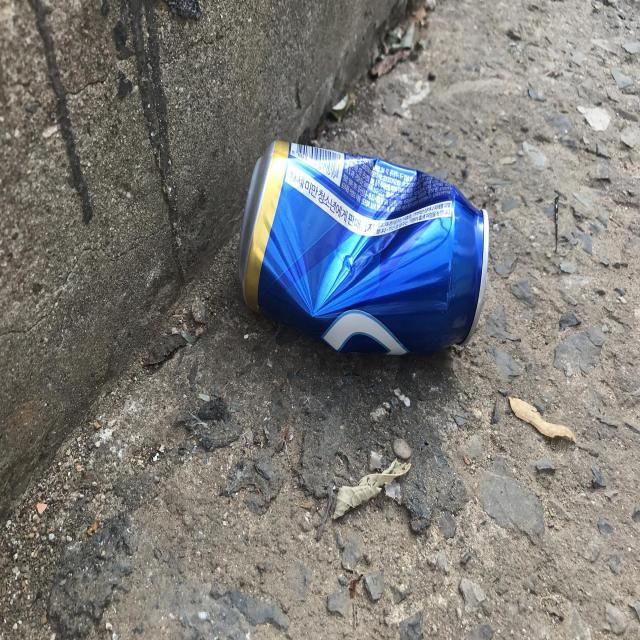can: (238, 140, 490, 354)
